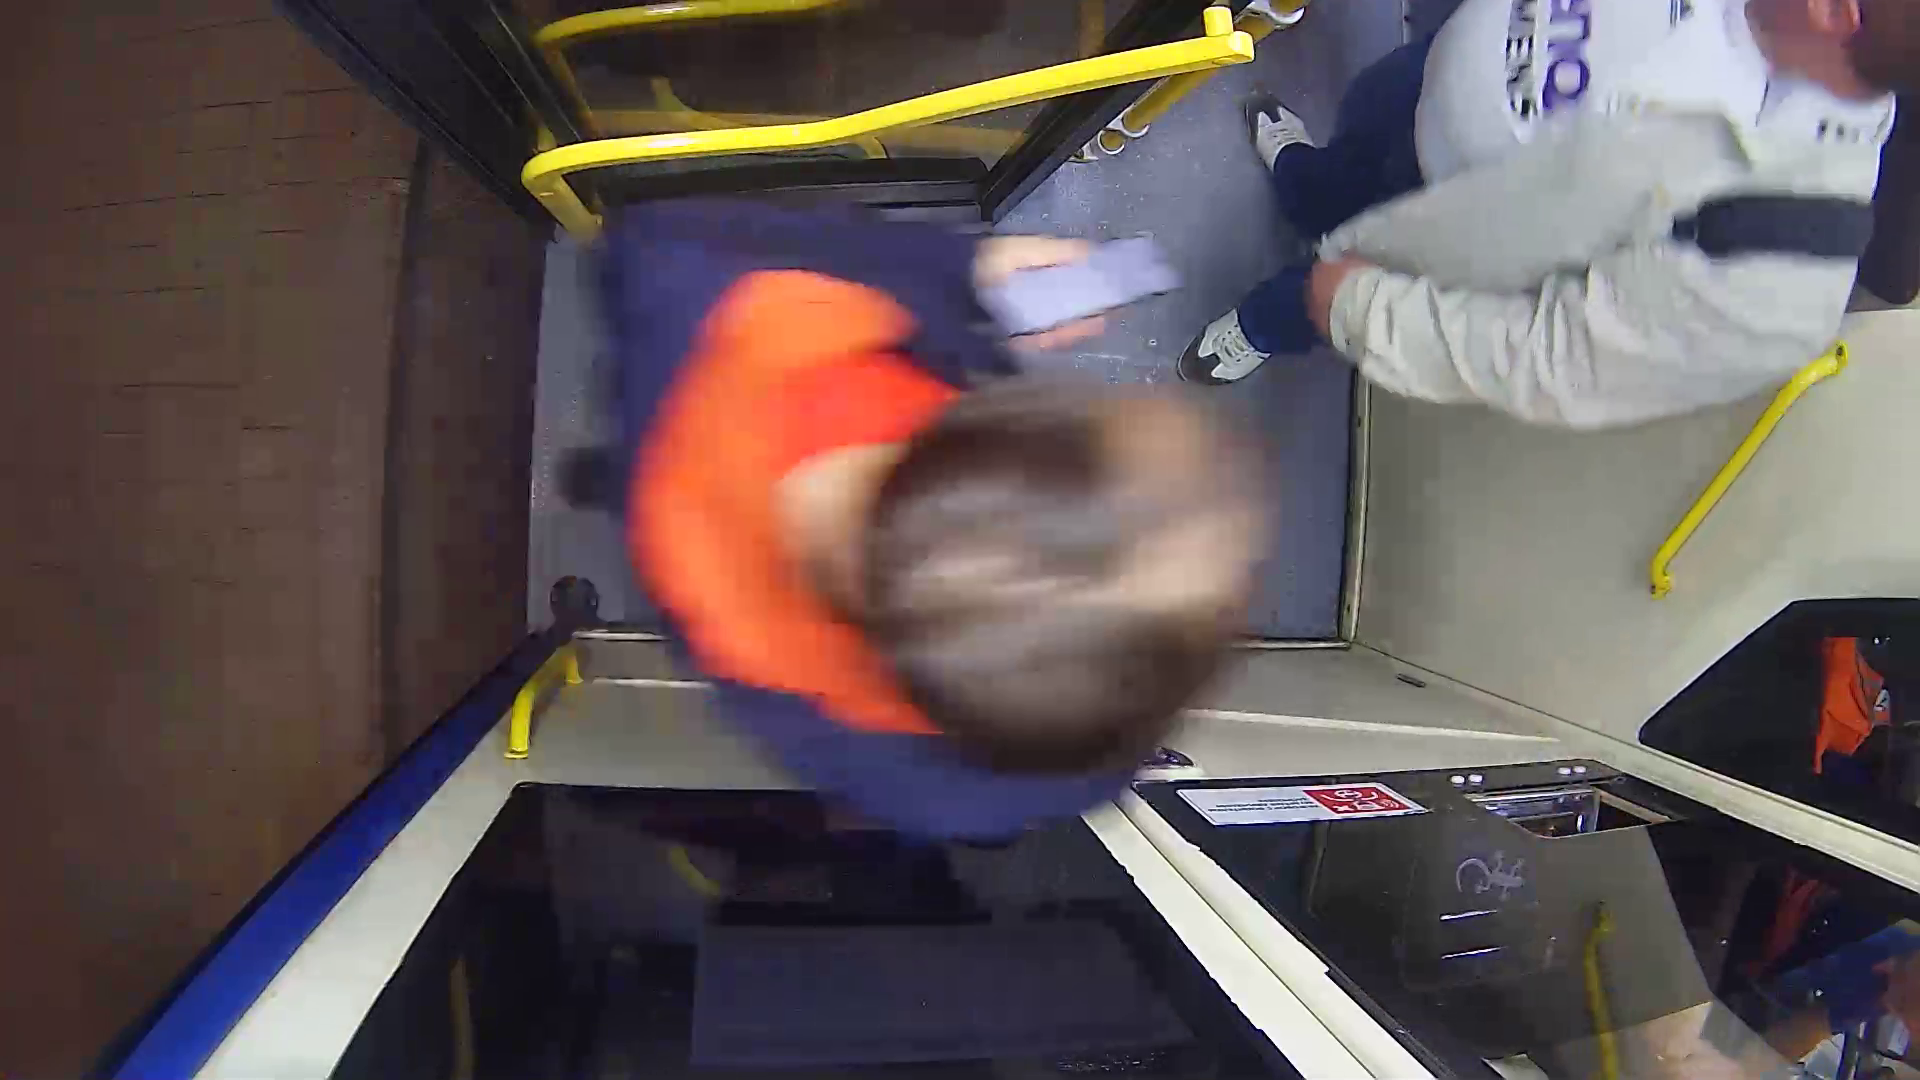person: (589, 186, 1288, 841)
